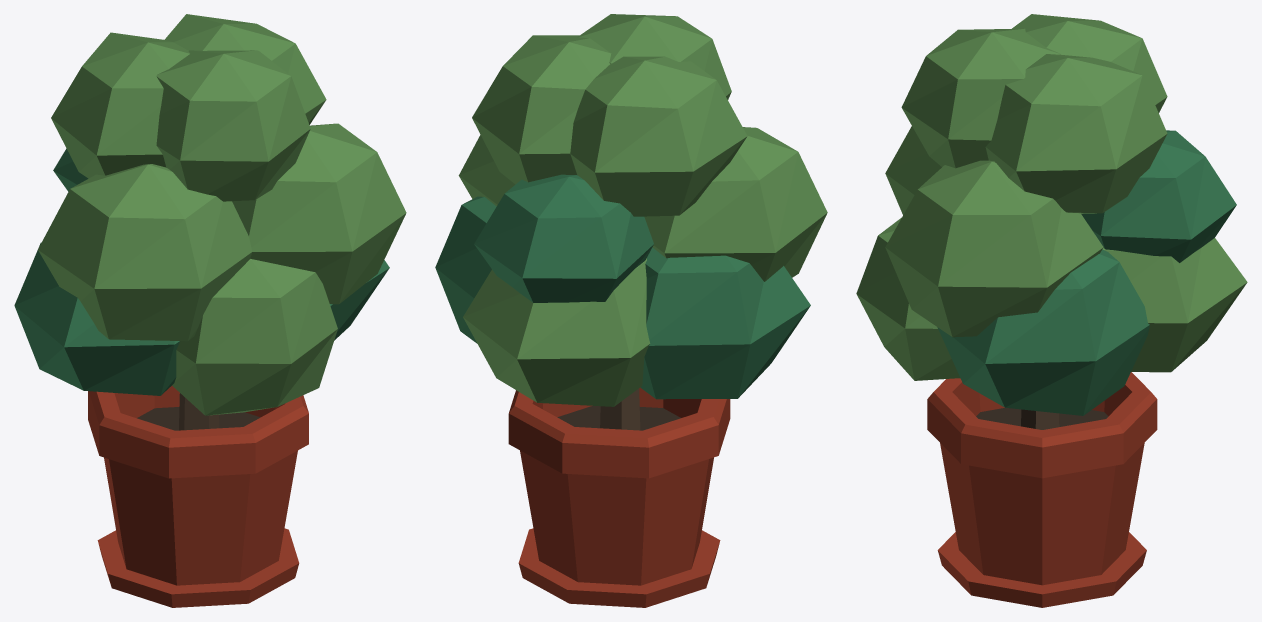
File: plant.glb
3 renders of one model, left to right at view 1: azimuth 30°, elevation 25°; view 2: azimuth 150°, elevation 25°; view 3: azimuth 270°, elevation 25°, orthographic.
Visible parts, largest first — view 1: foliage, pot; view 2: foliage, pot; view 3: foliage, pot.
Part boxes in pixels (<box>): foliage: <box>14,14,406,430</box>; pot: <box>88,386,308,607</box>; foliage: <box>435,14,827,430</box>; pot: <box>508,387,730,607</box>; foliage: <box>856,14,1247,429</box>; pot: <box>927,372,1157,607</box>.
Bounding box in the file's own units: 0.8868 × 1.38 × 0.9197.
